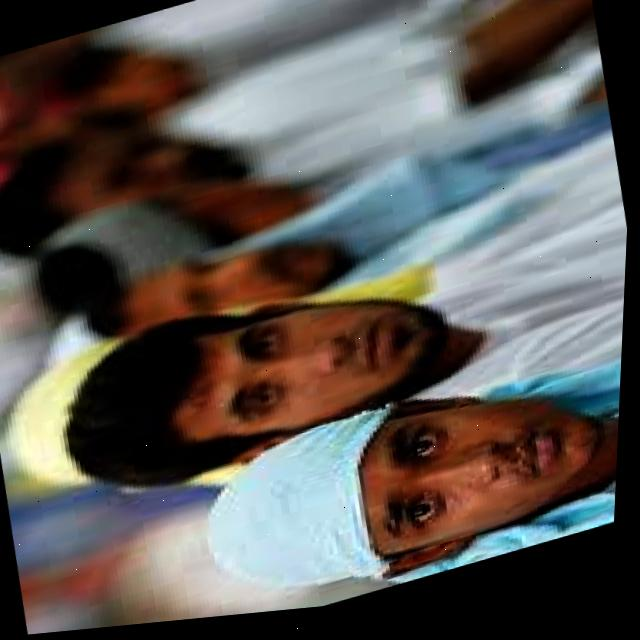natural: (115, 263, 478, 485)
